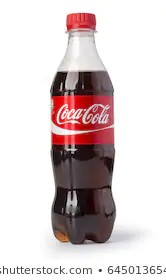coke-bottle-700ml: (50, 12, 118, 245)
